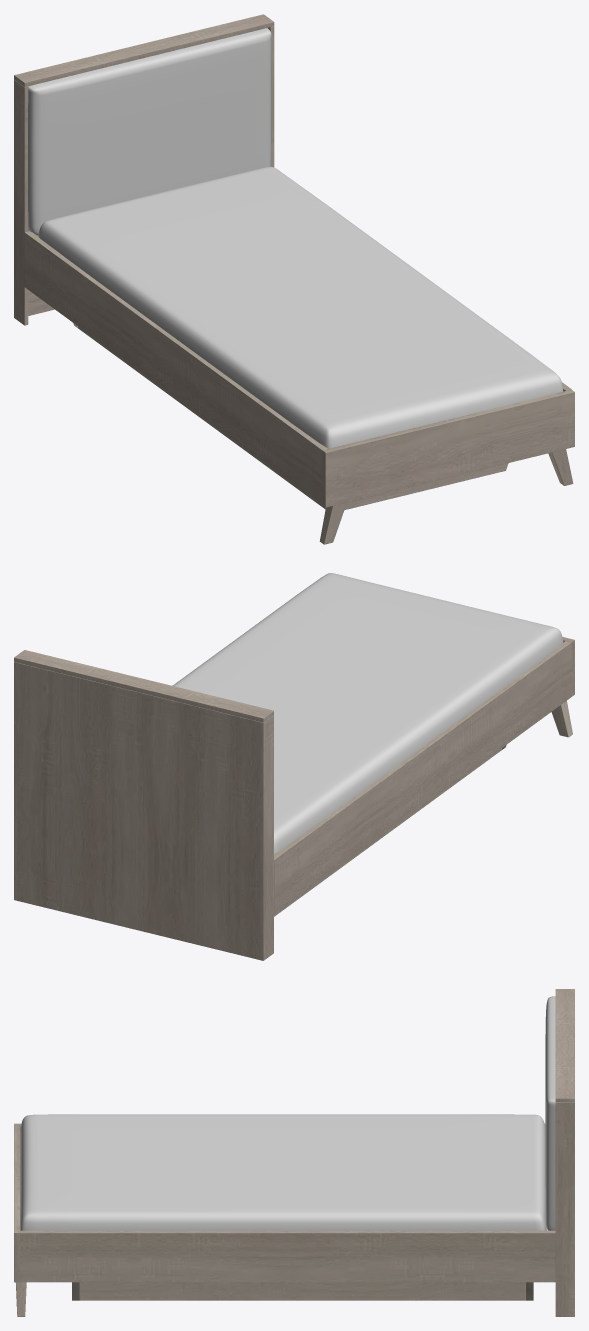
File: B07H8V7MQS.glb
3 renders of one model, top to bottom at view 1: azimuth 30°, elevation 25°; view 2: azimuth 150°, elevation 25°; view 3: azimuth 270°, elevation 25°, orthographic. The views are drawn at different scales.
Visible parts, largest first — view 1: RootNode; view 2: RootNode; view 3: RootNode.
Boxes of the visible parts, <box> form: RootNode: <box>14,14,574,544</box>; RootNode: <box>14,573,574,960</box>; RootNode: <box>14,989,574,1316</box>.
Size of the model in its own units: 0.9901 by 0.9201 by 2.14.
1 material, 1 textured.
